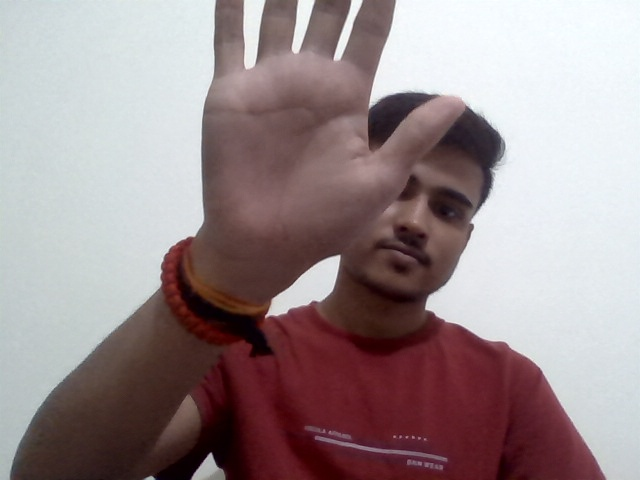Hello: (166, 1, 482, 323)
